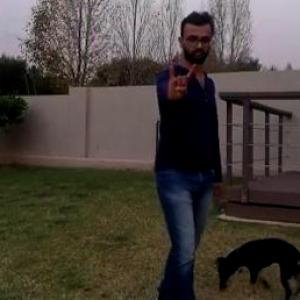takeoff-hand: (161, 53, 201, 104)
